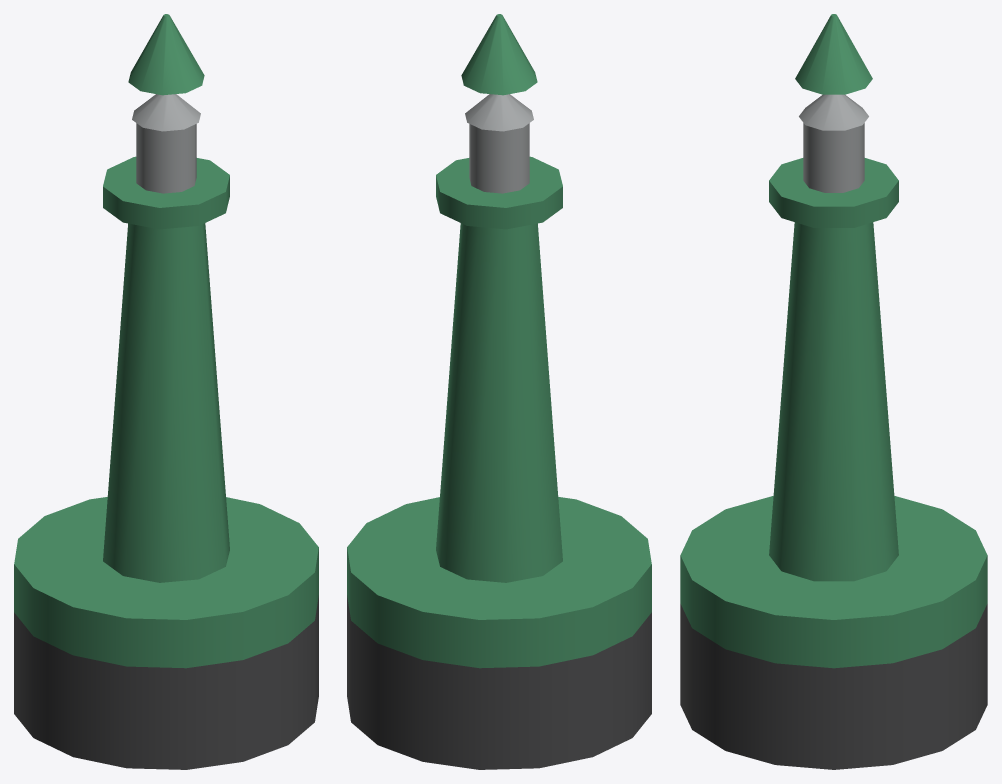
The model's file is buoy-pillar-green.glb.
3 views of the same model, side by side, from view 1: azimuth 30°, elevation 25°; view 2: azimuth 150°, elevation 25°; view 3: azimuth 270°, elevation 25° (orthographic).
Parts seen in each view (by area): view 1: buoy-pillar-green; view 2: buoy-pillar-green; view 3: buoy-pillar-green.
Boxes of the visible parts, <box> form: buoy-pillar-green: <box>14,14,318,769</box>; buoy-pillar-green: <box>347,14,651,769</box>; buoy-pillar-green: <box>680,14,987,769</box>.
Bounding box in the file's own units: 2.6 × 6.44 × 2.6.
